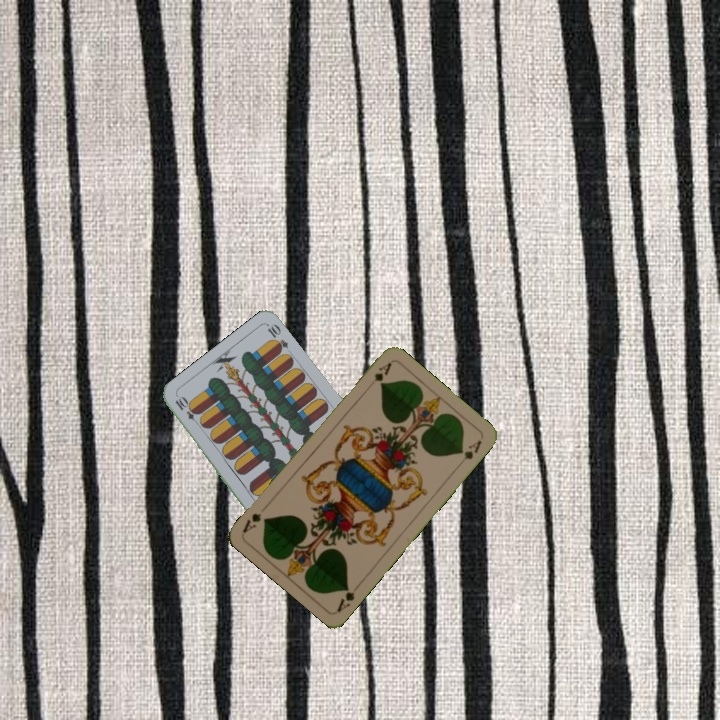E10: (171, 393, 203, 428)
GA: (333, 579, 363, 614), (370, 358, 394, 384)
